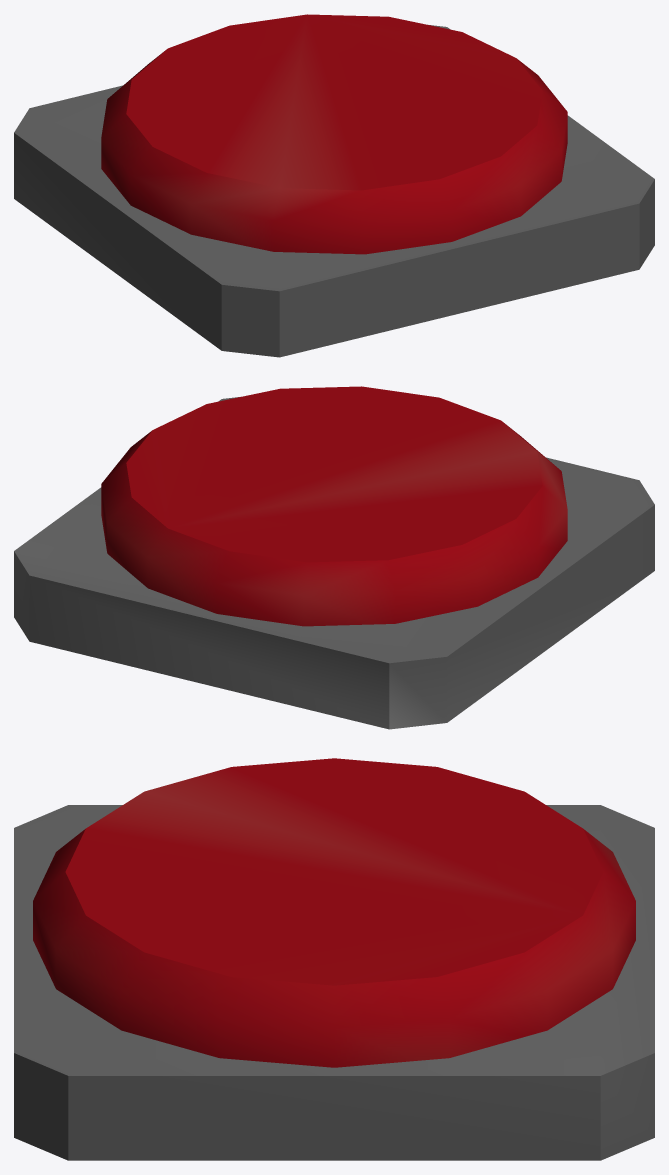
Rendered from Button.fbx.
The picture shows the model from 3 angles, top to bottom: view 1: azimuth 30°, elevation 25°; view 2: azimuth 150°, elevation 25°; view 3: azimuth 270°, elevation 25°; orthographic projection. The views are drawn at different scales.
Visible parts, largest first — view 1: Cube; view 2: Cube; view 3: Cube.
Part boxes in pixels (x1,y1,x2,y2): Cube: (14,14,654,357); Cube: (14,386,654,729); Cube: (14,758,654,1160).
Bounding box in the file's own units: 213 × 56.1 × 213.
